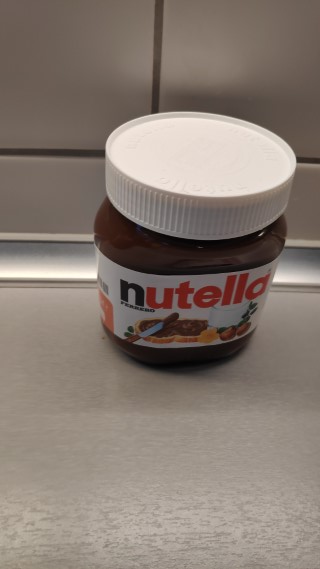nutella: (90, 108, 298, 370)
